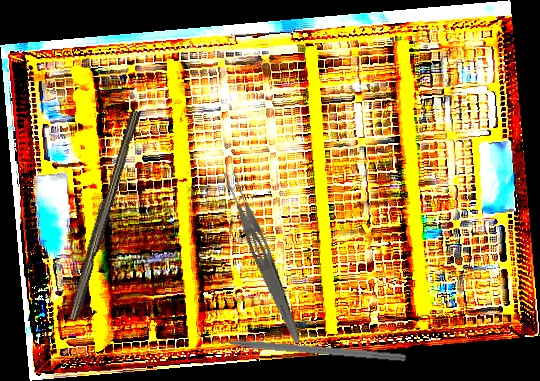Chopper: (199, 324, 409, 363)
Dressing Forceps: (218, 166, 310, 346)
Scalpel Handle: (65, 108, 141, 322)
